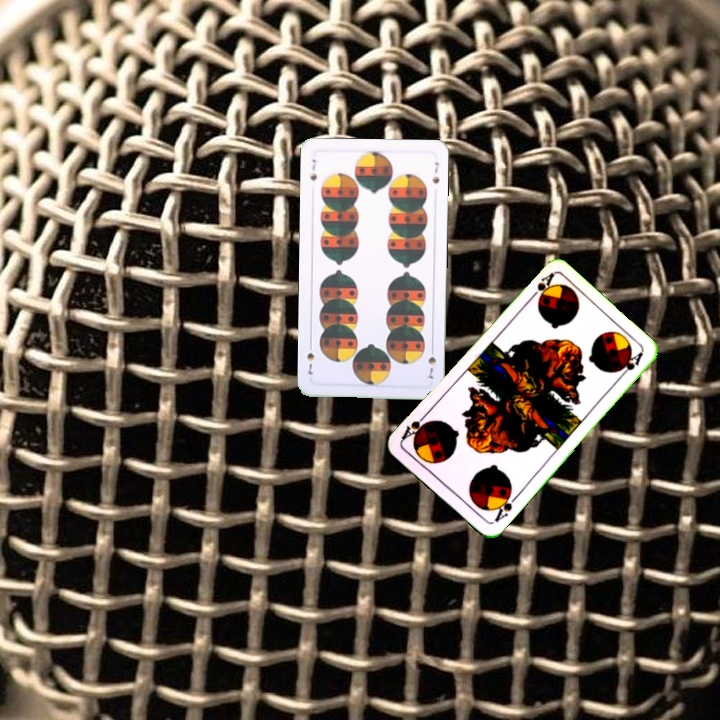S7: (424, 343, 438, 381), (306, 155, 319, 183)
SA: (489, 487, 520, 525), (525, 269, 557, 303)
